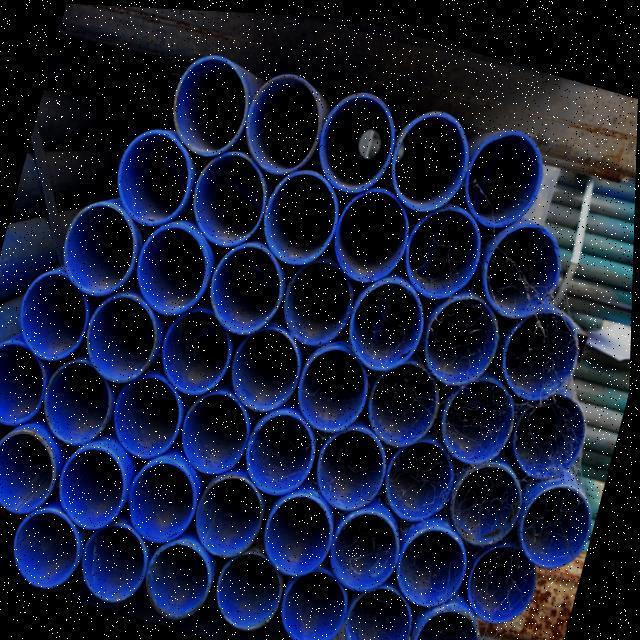pipe: (173, 49, 265, 159), (246, 64, 337, 174), (462, 121, 551, 222), (192, 143, 271, 248), (318, 88, 397, 192), (63, 194, 143, 296), (394, 104, 473, 207), (118, 122, 195, 227), (264, 159, 342, 261), (425, 289, 507, 383), (18, 265, 94, 366), (133, 217, 212, 314), (209, 238, 288, 335), (350, 269, 429, 366), (409, 198, 487, 294), (337, 176, 411, 277), (488, 215, 564, 313), (88, 287, 162, 387), (505, 297, 582, 390), (444, 369, 521, 460), (161, 302, 235, 395), (44, 357, 117, 451), (284, 253, 359, 343), (369, 352, 444, 441), (232, 321, 306, 411), (244, 405, 320, 492), (518, 385, 592, 474), (113, 372, 187, 461), (299, 338, 372, 428), (128, 456, 201, 546), (382, 431, 459, 516), (182, 384, 256, 472), (196, 469, 270, 557), (524, 474, 596, 564), (266, 486, 339, 574), (450, 458, 526, 542), (319, 420, 390, 508), (331, 505, 405, 588), (398, 520, 472, 601), (466, 536, 539, 618), (56, 442, 126, 527), (146, 539, 218, 620), (220, 548, 291, 627), (85, 517, 153, 599), (15, 508, 83, 587), (285, 564, 354, 640), (0, 429, 60, 513), (0, 338, 52, 425), (343, 580, 418, 640), (417, 601, 486, 640)
